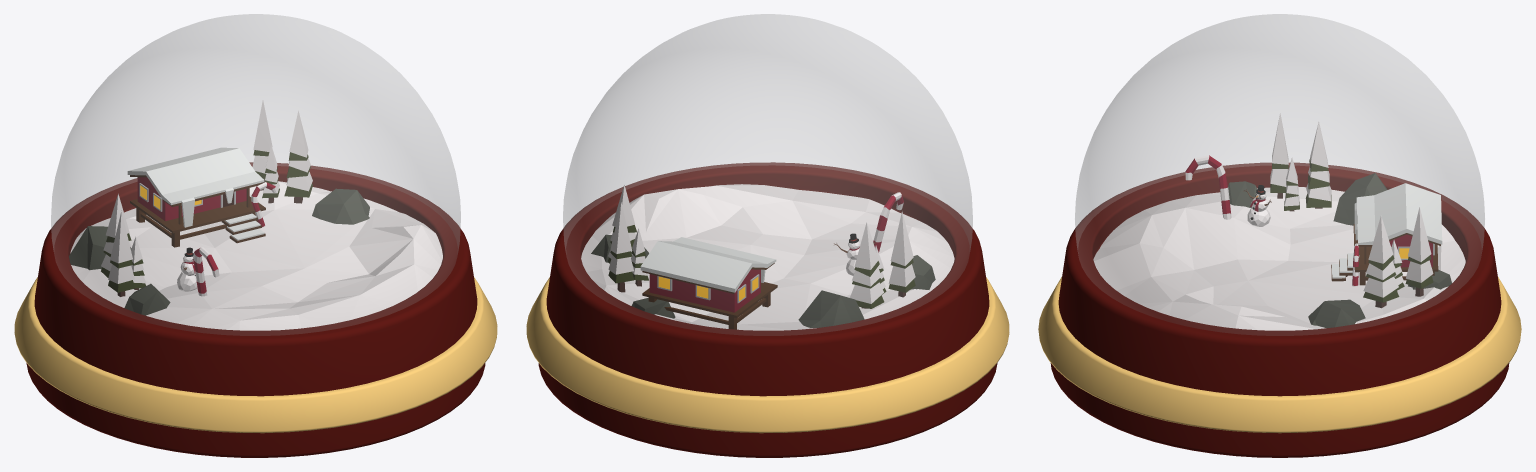
The model's file is snowglobe.glb.
3 views of the same model, side by side, from view 1: azimuth 30°, elevation 25°; view 2: azimuth 150°, elevation 25°; view 3: azimuth 270°, elevation 25° (orthographic).
Visible parts, largest first — view 1: GLASS, BASE, SNOW, HOUSE, TREES_SNOW, TREES_SNOW_2, STONE_3, STONE_2, SUGARCANE, STONE, SNOWMAN; view 2: GLASS, BASE, SNOW, HOUSE, TREES_SNOW_2, TREES_SNOW, STONE_2, STONE, SUGARCANE, STONE_4; view 3: GLASS, BASE, SNOW, HOUSE, TREES_SNOW, TREES_SNOW_2, STONE_3, STONE_2, SUGARCANE, SNOWMAN, STONE.
Part boxes in pixels (x1,y1,x2,y2): GLASS: [51, 14, 460, 335]; BASE: [14, 162, 497, 457]; SNOW: [70, 181, 442, 330]; HOUSE: [127, 147, 265, 247]; TREES_SNOW: [252, 100, 312, 203]; TREES_SNOW_2: [101, 193, 145, 296]; STONE_3: [312, 188, 369, 224]; STONE_2: [69, 226, 131, 270]; SUGARCANE: [193, 182, 277, 296]; STONE: [124, 283, 170, 315]; SNOWMAN: [177, 247, 197, 291]; GLASS: [563, 14, 972, 335]; BASE: [526, 162, 1009, 457]; SNOW: [581, 184, 954, 330]; HOUSE: [640, 237, 777, 329]; TREES_SNOW_2: [850, 211, 915, 308]; TREES_SNOW: [608, 184, 648, 292]; STONE_2: [798, 290, 864, 327]; STONE: [911, 255, 935, 289]; SUGARCANE: [873, 192, 903, 252]; STONE_4: [631, 297, 675, 318]; GLASS: [1075, 14, 1484, 335]; BASE: [1038, 162, 1521, 457]; SNOW: [1093, 186, 1465, 330]; HOUSE: [1331, 183, 1442, 285]; TREES_SNOW: [1363, 207, 1433, 308]; TREES_SNOW_2: [1270, 113, 1331, 211]; STONE_3: [1308, 299, 1365, 328]; STONE_2: [1333, 173, 1387, 225]; SUGARCANE: [1185, 155, 1359, 286]; SNOWMAN: [1243, 185, 1271, 226]; STONE: [1228, 181, 1257, 208].
Size of the model in its own units: 2.07 by 1.55 by 2.07.
Materials: 6 (2 with a texture image).
